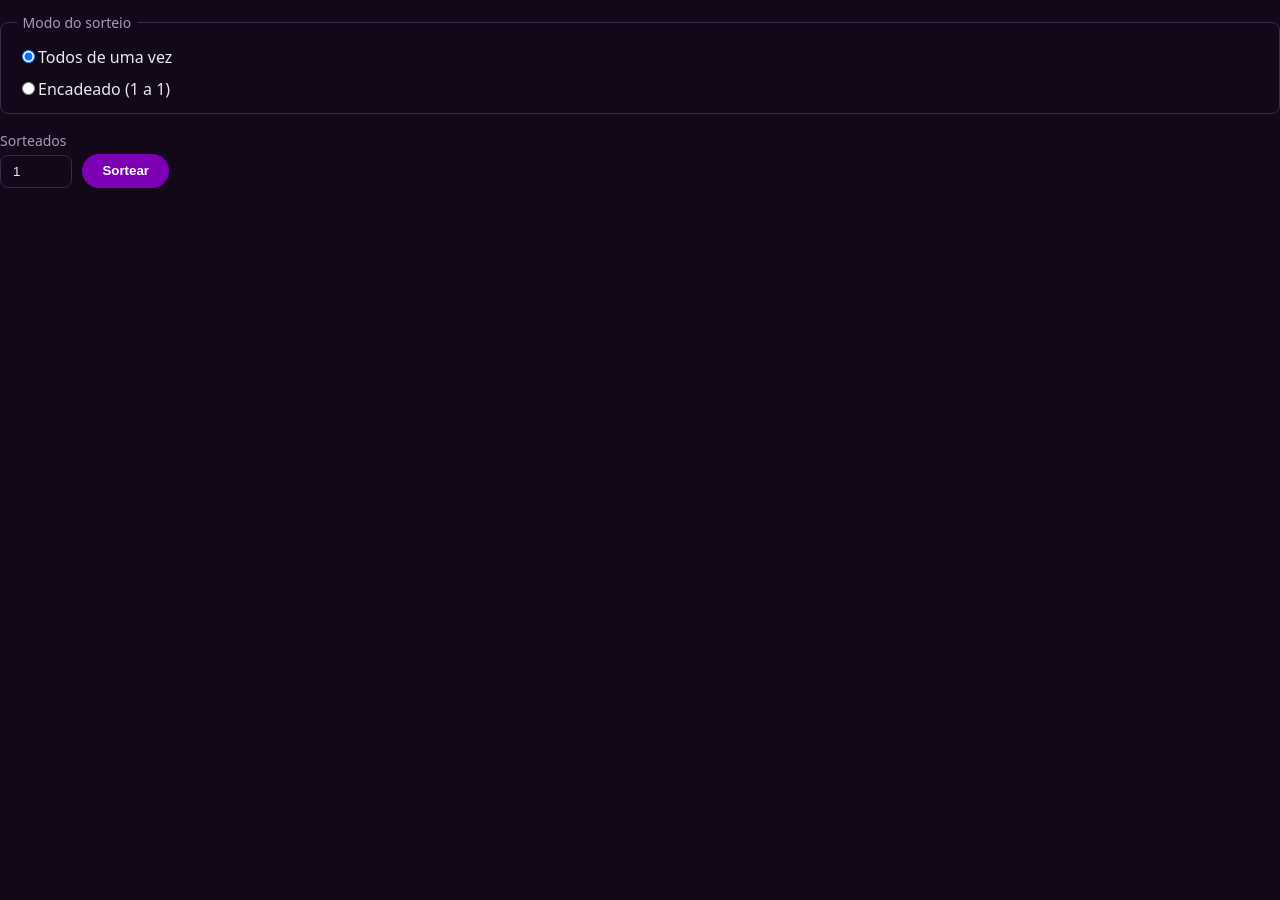
Test: RaffleControls › runs batch draw
Replace the text in the number field labelled "Sorteados" with "2": (36, 172) x1=0 y1=155 x2=72 y2=188
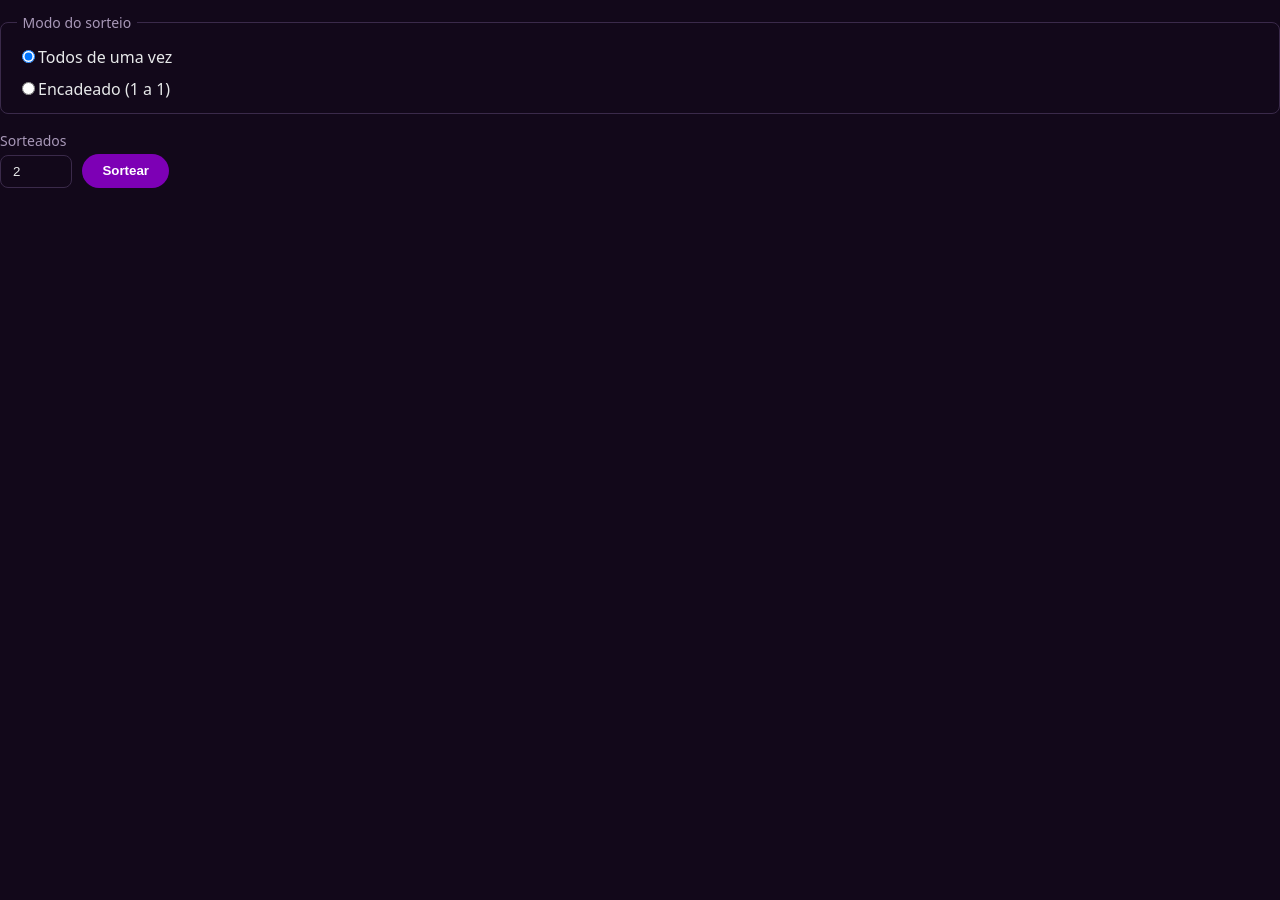
Click the button "Sortear": (126, 171) x1=82 y1=154 x2=169 y2=188
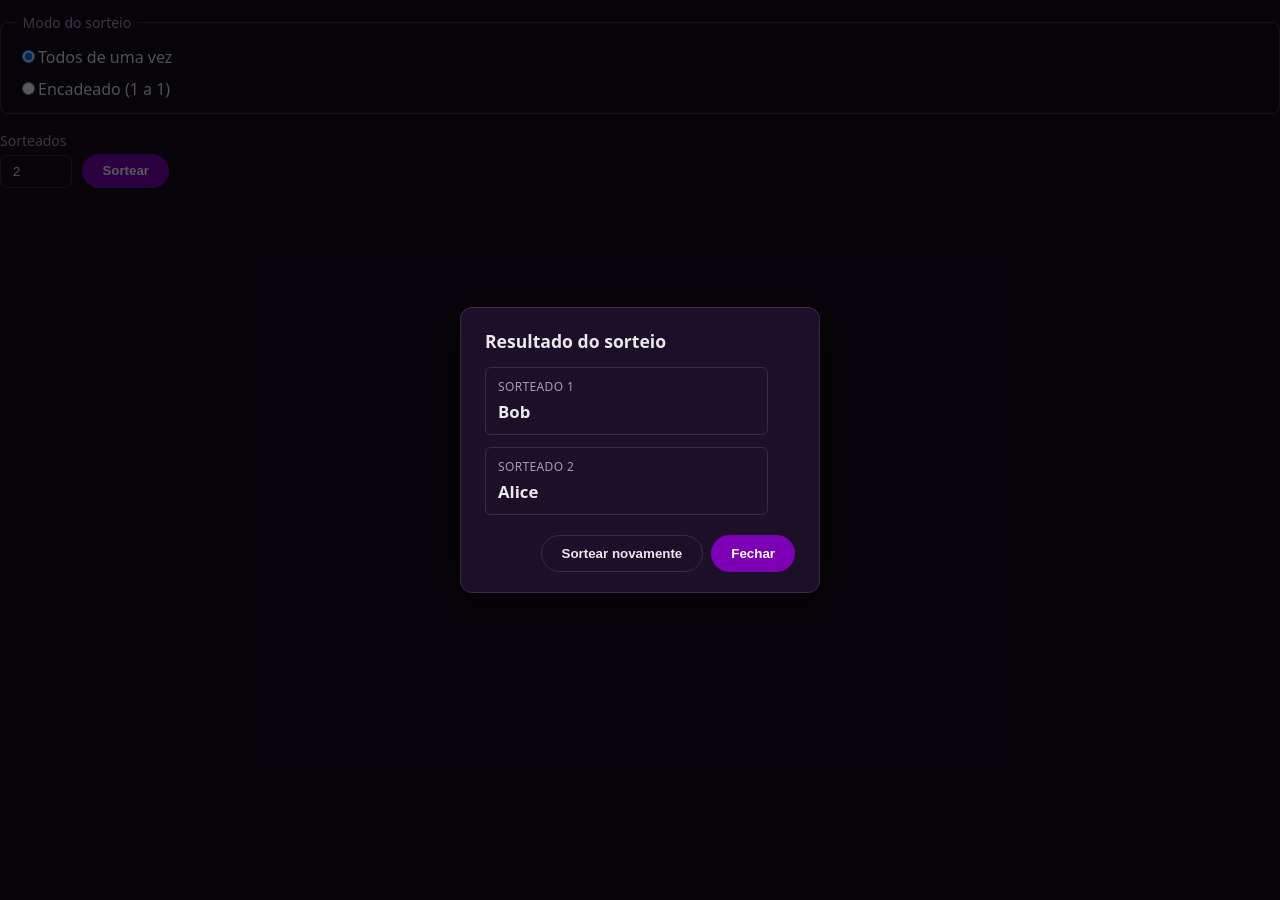
expect the heading "Resultado do sorteio" is shown: met, box x1=485 y1=329 x2=666 y2=353
expect the text "Sorteado 1" is shown 2 times: met, box x1=498 y1=378 x2=574 y2=395; x1=498 y1=458 x2=574 y2=476
